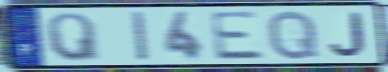4: (163, 9, 205, 62)
E: (208, 9, 267, 61)
I: (130, 10, 153, 63)
J: (329, 11, 369, 58)
Q: (44, 11, 103, 63), (266, 8, 321, 62)
